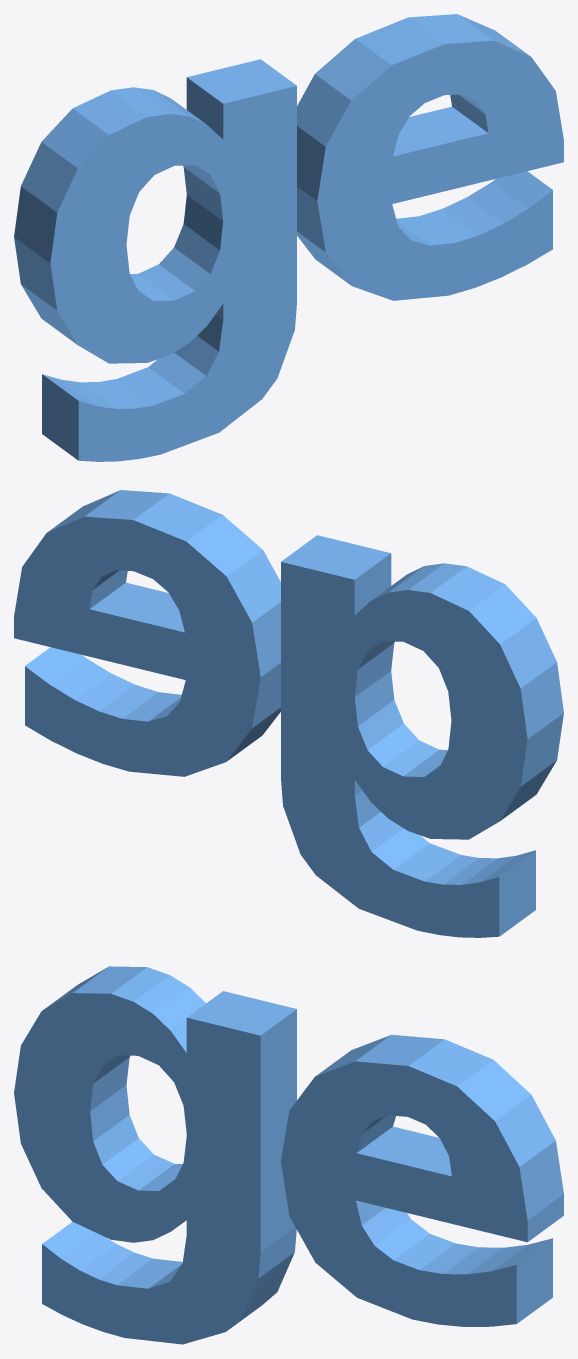
Rendered from suku_kecil_ge.glb.
3 views of the same model, one above another, from view 1: azimuth 30°, elevation 25°; view 2: azimuth 150°, elevation 25°; view 3: azimuth 330°, elevation 25° (orthographic).
Visible parts, largest first — view 1: geometry_0; view 2: geometry_0; view 3: geometry_0.
Boxes of the visible parts, x1,y1,x2,y2 form: geometry_0: (14, 14, 563, 461); geometry_0: (14, 490, 563, 937); geometry_0: (14, 966, 563, 1344).
Size of the model in its own units: 12.22 by 7.76 by 1.5.
